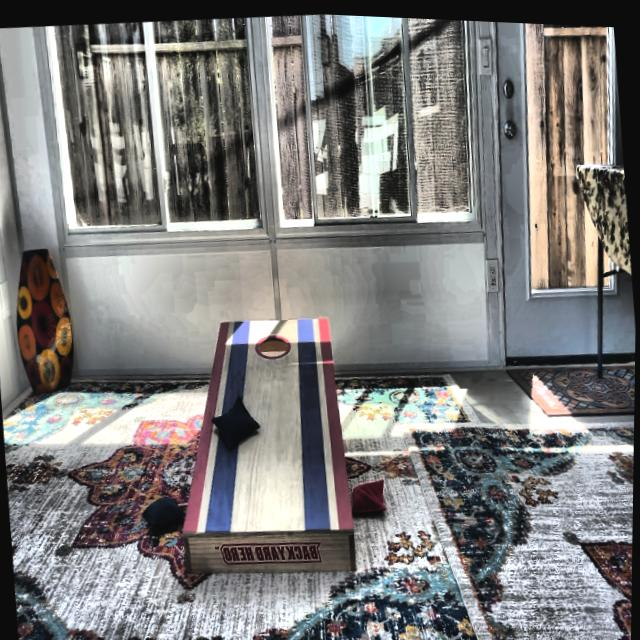blue-bean-bag: (209, 390, 262, 448), (140, 488, 186, 529)
board: (200, 309, 348, 532)
hole: (254, 328, 292, 358)
red-bean-bag: (349, 472, 387, 512)
